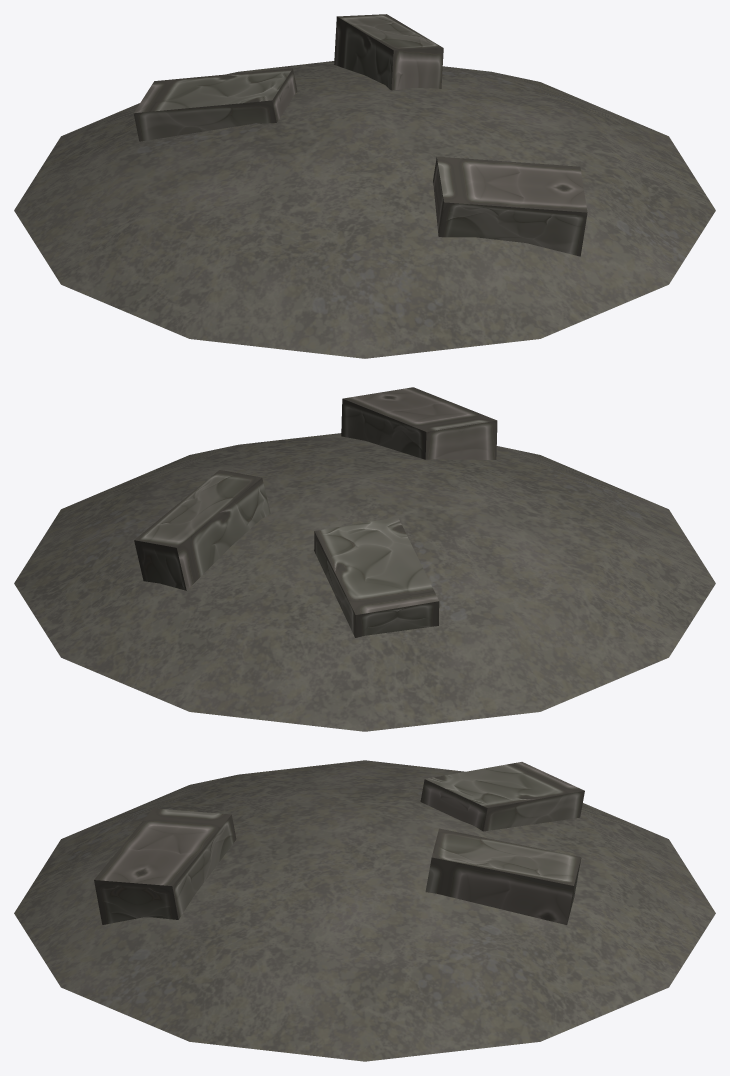
The model's file is RuinPile_01.fbx.
3 views of the same model, one above another, from view 1: azimuth 30°, elevation 25°; view 2: azimuth 150°, elevation 25°; view 3: azimuth 270°, elevation 25° (orthographic).
Visible parts, largest first — view 1: RuinPile_01; view 2: RuinPile_01; view 3: RuinPile_01.
Boxes of the visible parts, x1=… form: RuinPile_01: x1=14, y1=14, x2=715, y2=358; RuinPile_01: x1=14, y1=387, x2=715, y2=731; RuinPile_01: x1=14, y1=760, x2=715, y2=1061.
Bounding box in the file's own units: 24.15 × 4.44 × 24.15.
